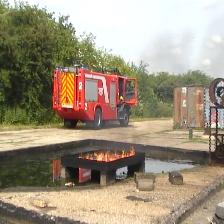fire: (79, 149, 136, 160)
